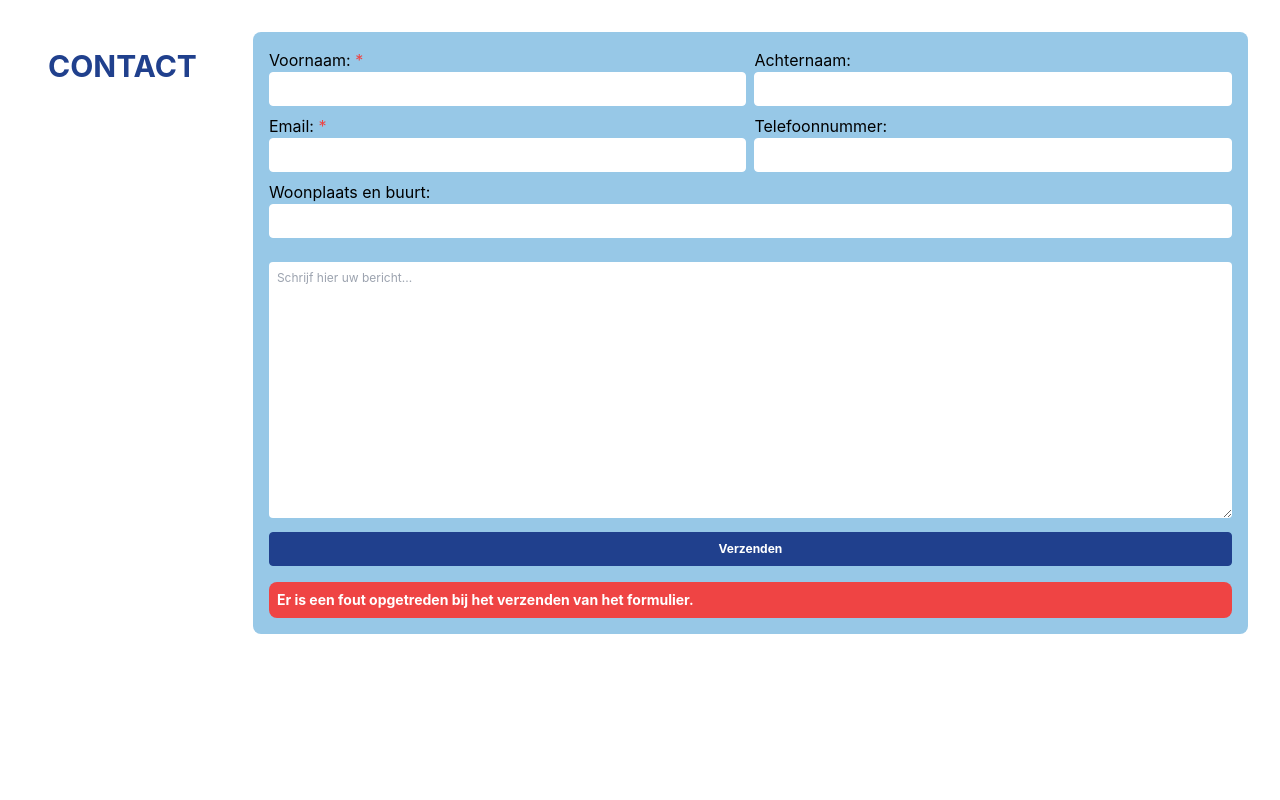
Test case: ContactForm › shows error message when required fields are empty
Click the button "Verzenden": (750, 549) top-left (269, 532), bottom-right (1232, 566)
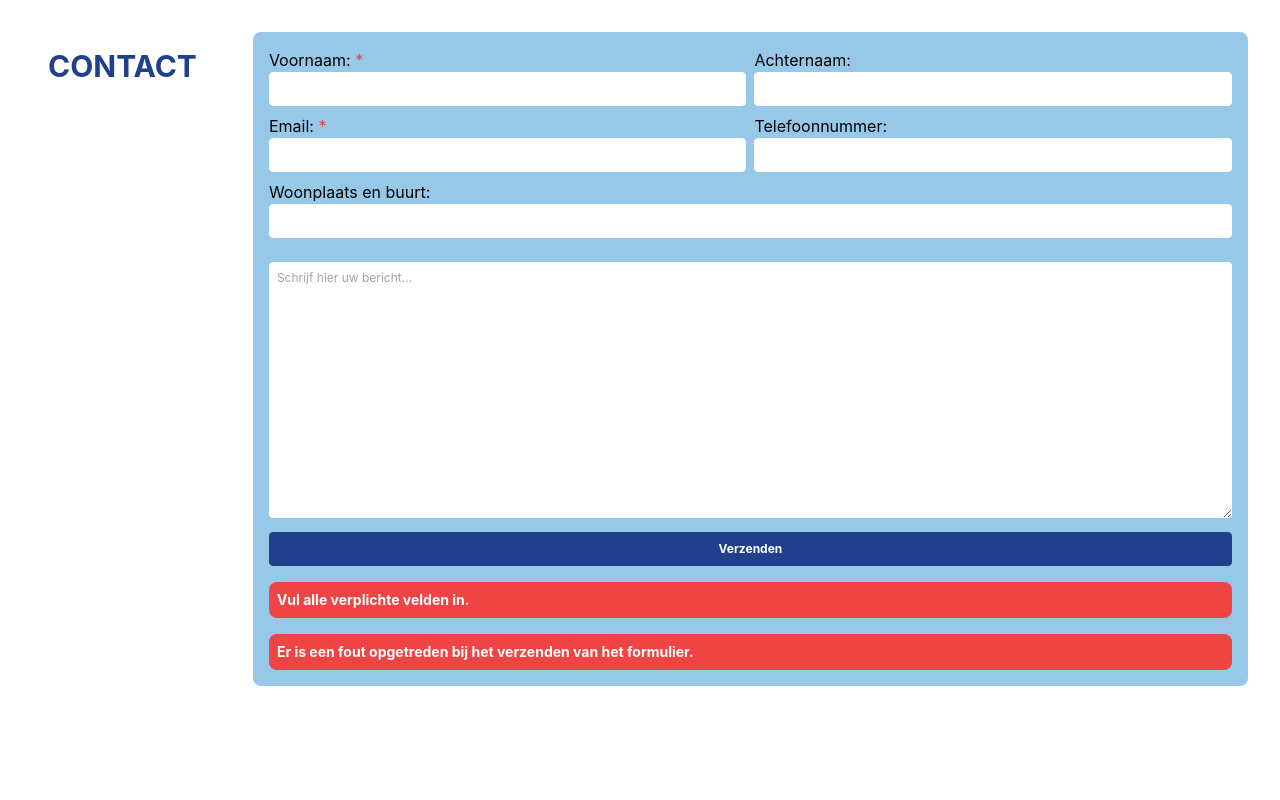
Check: the text "Vul alle verplichte velden in." is shown, box top-left (269, 582), bottom-right (1232, 618)
